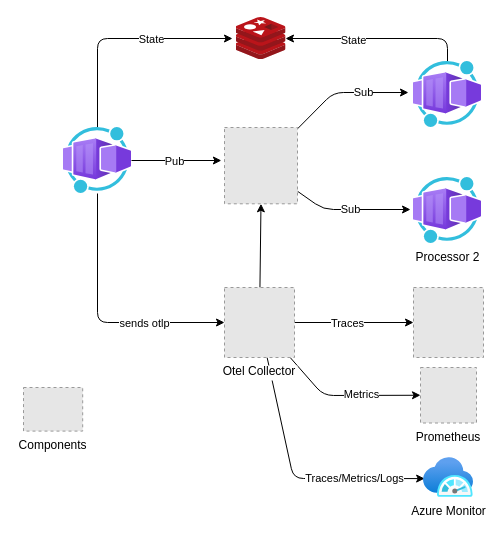
This 503x535 diagram has some shape labels left out. Grey dashed boxes stand in for pictures. The shapes that lost their labels are listed below. From the top down, each one's centre as x and y in pixels, then its label:
At [447,94]: "Processor 1".
At [97,160]: "Credit Api".
